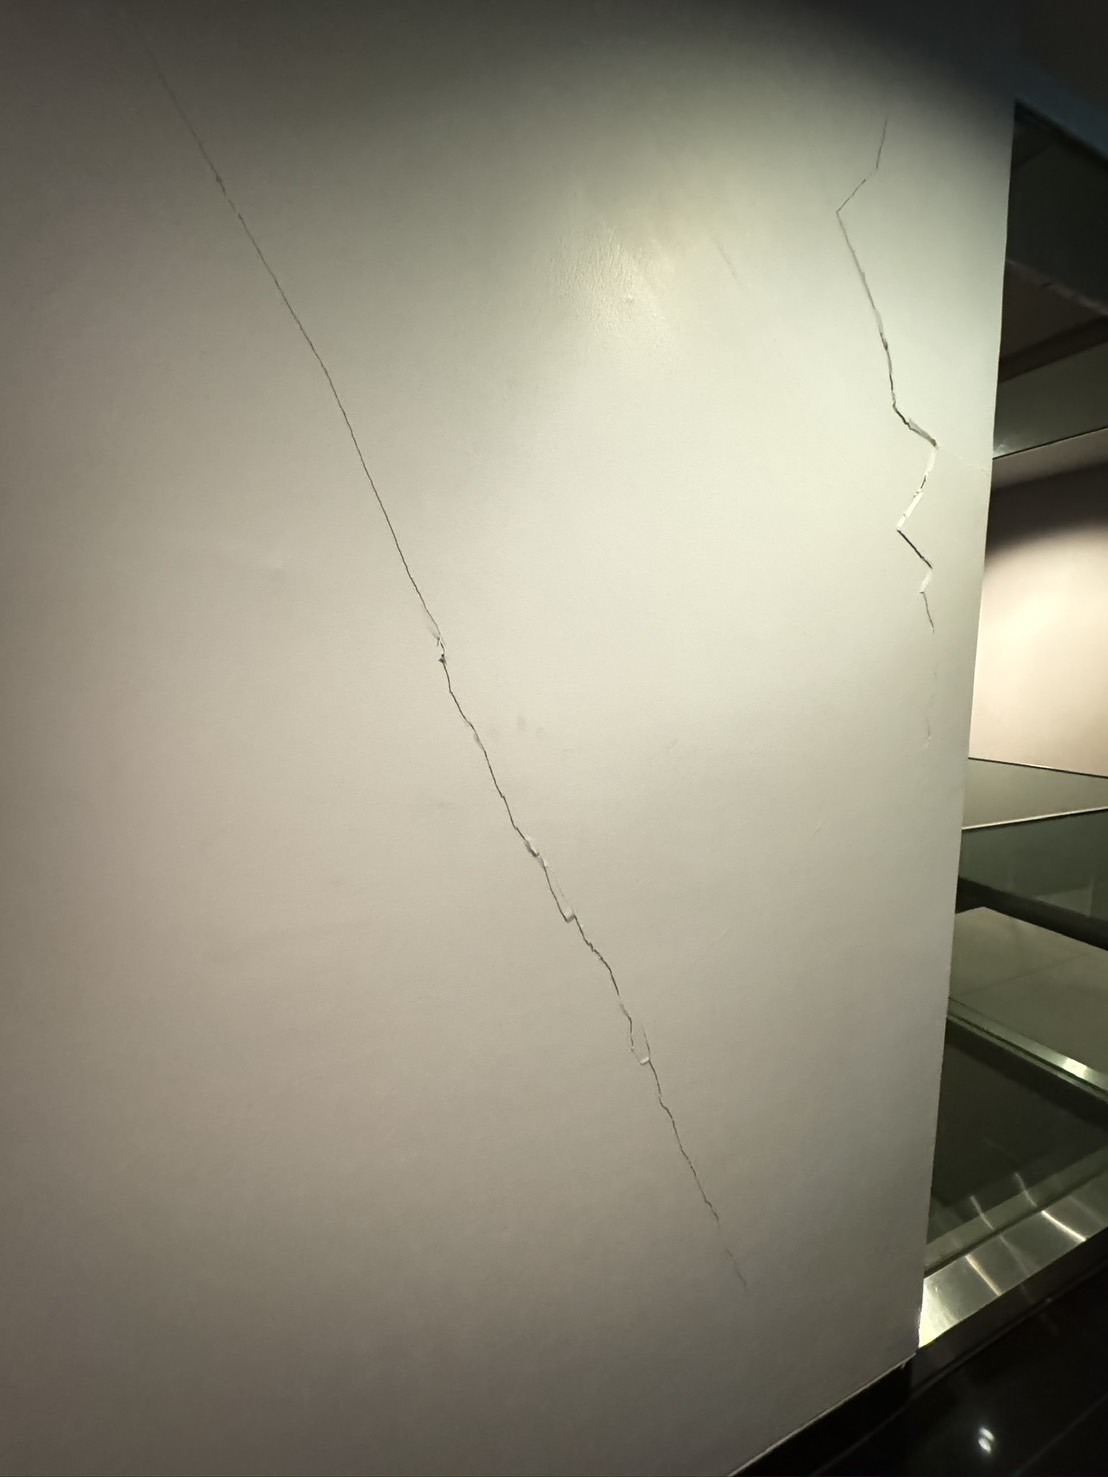Low: (102, 5, 949, 1373)
